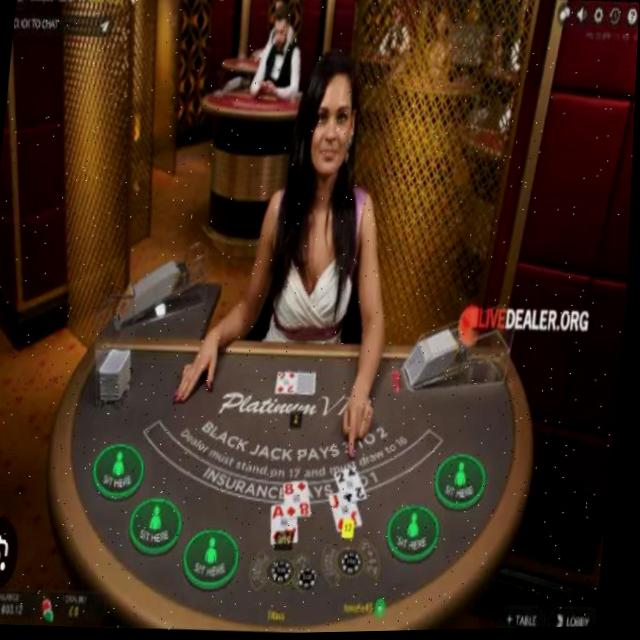Card-2: (339, 467, 372, 506)
Card-7: (279, 371, 301, 395)
Card-8: (288, 481, 316, 519)
Card-A: (276, 506, 303, 548)
Card-J: (333, 494, 367, 533)
